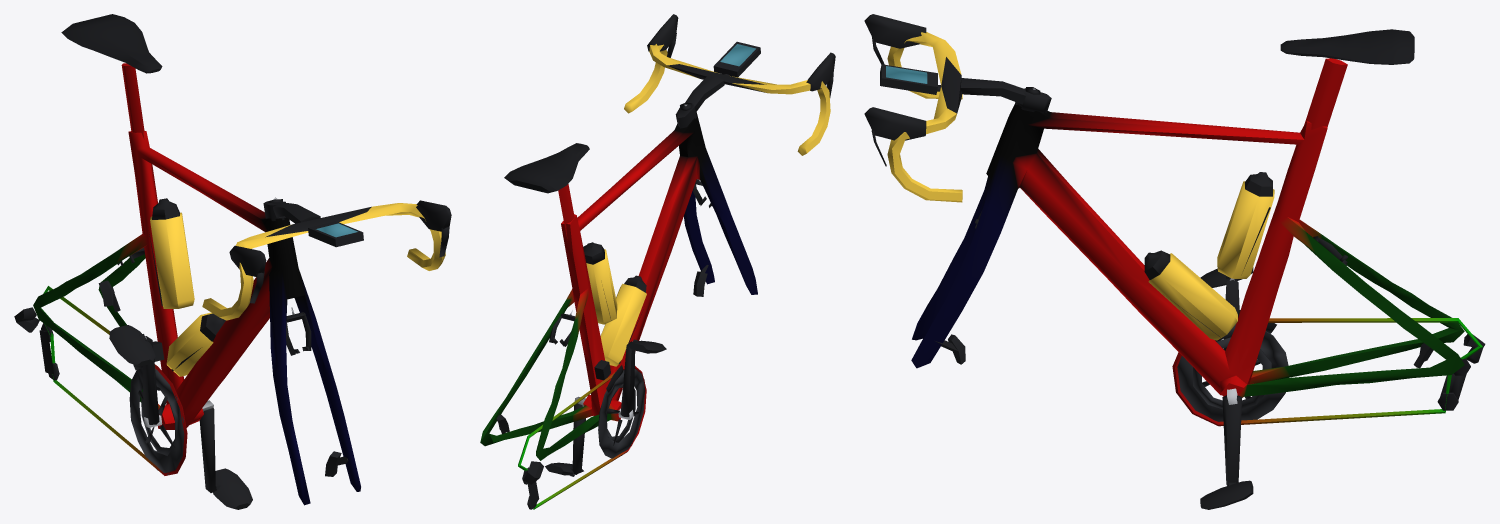
The model's file is aero_lod1.glb.
The picture shows the model from 3 angles, left to right: view 1: azimuth 30°, elevation 25°; view 2: azimuth 150°, elevation 25°; view 3: azimuth 270°, elevation 25°; orthographic projection. The views are drawn at different scales.
Visible parts, largest first — view 1: frame, cockpit, opt_bottles, crankset, saddle, pedal_R, opt_derailleur, pedal_L, opt_brakes_disc, opt_brakes_rim; view 2: frame, cockpit, opt_bottles, crankset, saddle, opt_derailleur, opt_brakes_rim, opt_brakes_disc; view 3: frame, cockpit, opt_bottles, crankset, saddle, opt_derailleur, pedal_L.
Part boxes in pixels (x1,y1,x2,y2): frame: (33, 63, 360, 505); cockpit: (202, 197, 451, 320); opt_bottles: (149, 198, 225, 376); crankset: (129, 336, 215, 492); saddle: (61, 14, 162, 73); pedal_R: (109, 325, 155, 366); opt_derailleur: (14, 307, 164, 380); pedal_L: (213, 468, 252, 509); opt_brakes_disc: (98, 280, 348, 476); opt_brakes_rim: (117, 247, 311, 355); frame: (480, 112, 757, 509); cockpit: (624, 14, 835, 155); opt_bottles: (583, 242, 646, 366); crankset: (572, 341, 645, 474); saddle: (504, 143, 589, 193); opt_derailleur: (522, 360, 623, 509); opt_brakes_rim: (549, 179, 711, 346); opt_brakes_disc: (496, 265, 708, 434); frame: (911, 58, 1482, 426); cockpit: (864, 14, 1051, 202); opt_bottles: (1144, 172, 1274, 340); crankset: (1177, 280, 1288, 485); saddle: (1280, 29, 1414, 64); opt_derailleur: (1238, 310, 1485, 410); pedal_L: (1200, 480, 1253, 509).
Bounding box in the file's own units: 0.4652 × 0.885 × 1.13.
